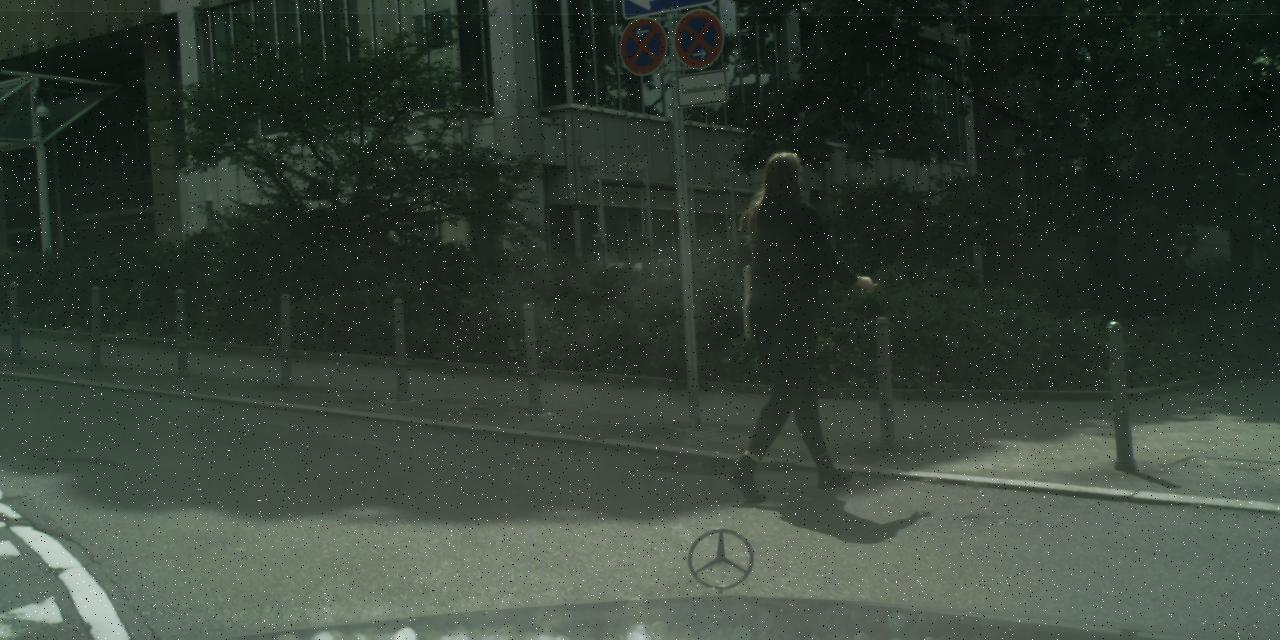ped: (719, 151, 859, 493)
